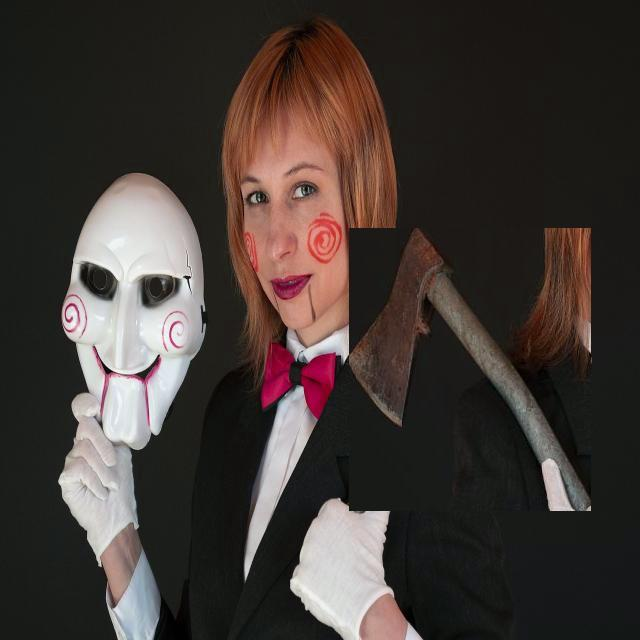Axe: (349, 229, 591, 511)
